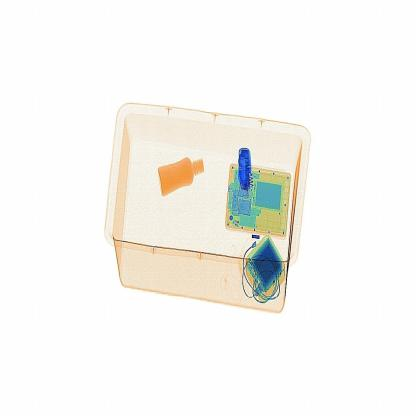scissors: (231, 142, 260, 208)
